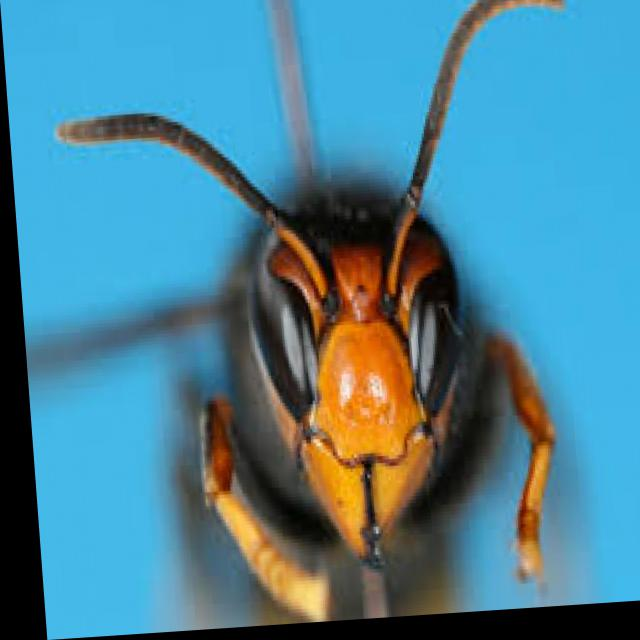Vespa Velutina: (46, 0, 612, 634)
